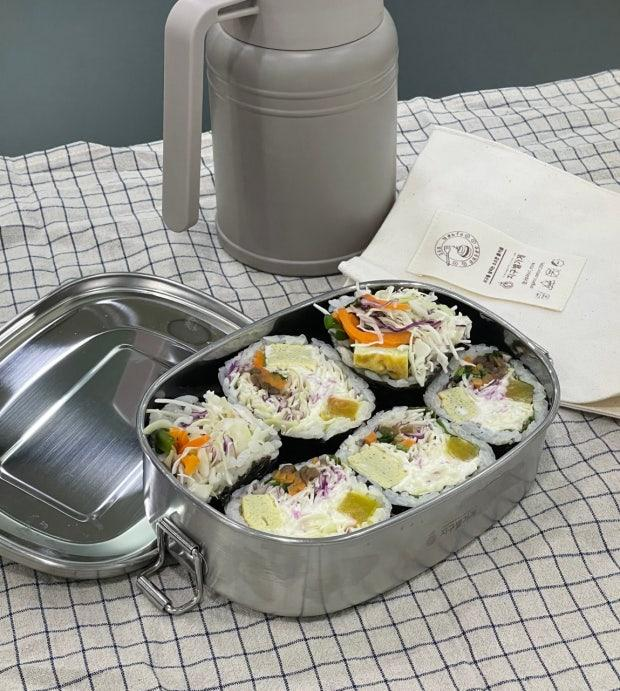Lunch Box: (0, 273, 559, 616), (162, 0, 397, 275)
